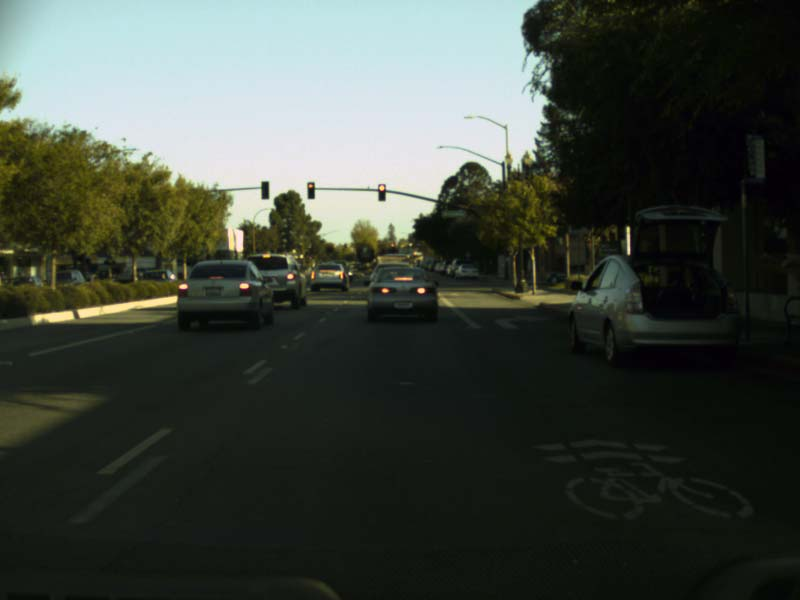Red: (378, 183, 385, 201), (307, 182, 314, 198), (389, 242, 394, 246)
